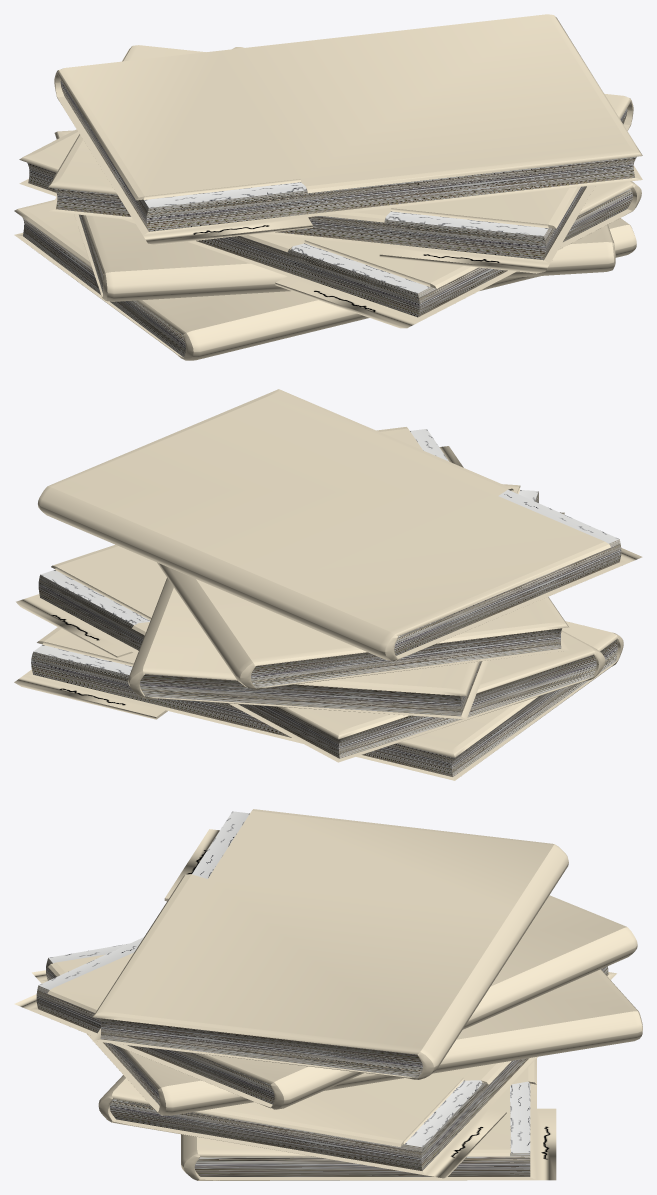
Rendered from AP_FilePile1_CS.fbx.
3 views of the same model, one above another, from view 1: azimuth 30°, elevation 25°; view 2: azimuth 150°, elevation 25°; view 3: azimuth 270°, elevation 25° (orthographic). The views are drawn at different scales.
Parts seen in each view (by area): view 1: filefolder6, filefolder3, filefolder2, filefolder, filefolder1; view 2: filefolder6, filefolder1, filefolder3, filefolder, filefolder2; view 3: filefolder6, filefolder1, filefolder3, filefolder2, filefolder.
Part boxes in pixels (bbox=[...]): filefolder6: bbox=[54, 14, 642, 245]; filefolder3: bbox=[48, 45, 633, 273]; filefolder2: bbox=[19, 47, 641, 328]; filefolder: bbox=[14, 200, 636, 360]; filefolder1: bbox=[54, 130, 615, 301]; filefolder6: bbox=[38, 389, 642, 660]; filefolder1: bbox=[16, 544, 605, 762]; filefolder3: bbox=[157, 427, 568, 689]; filefolder: bbox=[14, 621, 623, 780]; filefolder2: bbox=[128, 484, 564, 719]; filefolder6: bbox=[92, 809, 568, 1079]; filefolder1: bbox=[98, 966, 616, 1178]; filefolder3: bbox=[14, 895, 637, 1109]; filefolder2: bbox=[32, 943, 642, 1115]; filefolder: bbox=[181, 1058, 556, 1180].
Size of the model in its own units: 4 by 1.05 by 4.02.
1 material, 1 textured.
